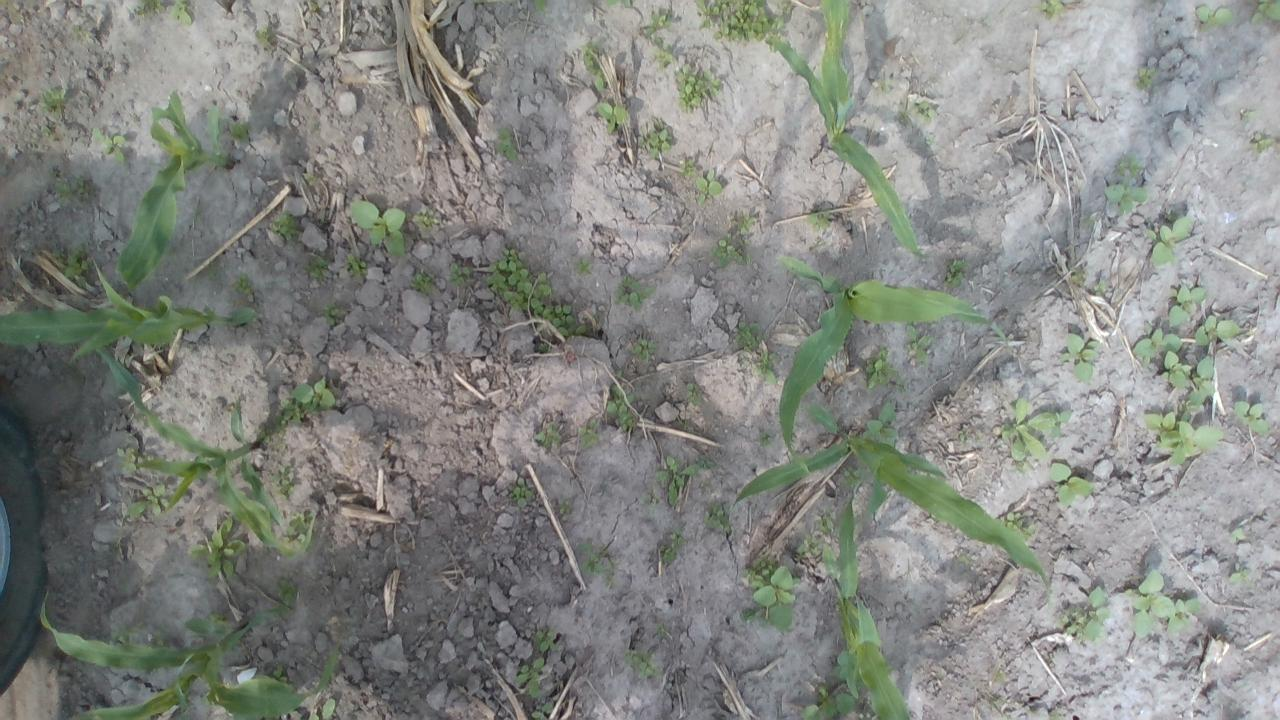Maize: (730, 402, 1053, 592), (776, 252, 1009, 476), (97, 346, 316, 556), (764, 0, 928, 258), (39, 589, 333, 720), (0, 254, 257, 366), (118, 92, 240, 290), (836, 484, 916, 720)
Weeds: (1128, 568, 1200, 639), (992, 397, 1070, 462), (1142, 410, 1224, 467), (185, 516, 247, 578), (491, 245, 552, 306), (349, 199, 406, 257), (756, 568, 794, 630), (1072, 585, 1111, 642), (714, 0, 769, 40), (656, 459, 702, 506), (1049, 461, 1094, 508), (532, 300, 586, 338), (674, 66, 720, 110), (1150, 216, 1192, 264), (1062, 332, 1102, 382), (1132, 328, 1182, 364), (295, 377, 337, 418), (806, 688, 856, 720), (1168, 284, 1204, 326), (868, 344, 902, 388), (583, 39, 610, 91), (127, 482, 168, 516), (1103, 184, 1146, 216), (1190, 354, 1214, 407), (516, 657, 546, 699), (1196, 316, 1236, 346), (766, 0, 789, 50), (1196, 4, 1234, 34), (866, 404, 900, 437), (756, 347, 784, 387), (1236, 402, 1270, 433), (618, 276, 648, 311), (598, 102, 630, 134), (906, 328, 934, 364), (581, 539, 609, 573), (744, 560, 774, 590), (606, 382, 632, 416), (650, 38, 674, 74), (644, 130, 672, 160), (272, 465, 298, 496), (734, 318, 759, 350), (706, 505, 734, 533), (62, 248, 88, 278), (638, 12, 668, 38), (1164, 352, 1185, 388), (626, 648, 655, 674), (944, 258, 969, 288), (696, 0, 720, 31), (1250, 0, 1280, 24), (695, 178, 721, 205), (511, 478, 533, 508), (273, 212, 296, 240), (104, 134, 126, 163), (171, 0, 195, 26), (1116, 154, 1142, 178), (1007, 514, 1034, 536), (1134, 66, 1156, 93), (580, 421, 600, 450), (118, 444, 136, 476), (494, 128, 514, 156), (535, 630, 557, 655), (414, 206, 439, 228), (408, 273, 434, 294), (796, 536, 820, 558), (42, 87, 62, 112), (288, 509, 310, 531), (254, 28, 276, 50), (534, 430, 558, 450), (451, 264, 472, 286), (836, 649, 853, 676), (345, 256, 366, 276), (1043, 0, 1064, 20), (914, 102, 936, 121), (136, 0, 162, 16), (810, 213, 830, 232), (305, 256, 325, 275), (713, 240, 734, 258), (278, 576, 298, 594), (279, 402, 294, 426), (324, 306, 342, 326), (234, 276, 254, 294), (55, 176, 73, 196), (632, 342, 654, 358), (660, 542, 676, 562), (235, 122, 252, 140), (1252, 135, 1270, 151), (579, 259, 594, 278), (1232, 568, 1252, 582), (841, 466, 860, 480), (92, 126, 106, 145), (681, 158, 694, 178), (822, 510, 835, 528), (735, 217, 753, 229), (686, 384, 698, 402), (652, 624, 666, 638), (562, 498, 575, 513), (534, 705, 548, 718), (1071, 270, 1082, 286), (272, 666, 286, 678), (743, 606, 754, 621), (698, 457, 716, 466), (621, 417, 633, 430), (1094, 284, 1108, 295), (1234, 528, 1248, 538), (210, 613, 224, 622), (603, 0, 618, 8), (900, 112, 910, 124), (1240, 107, 1250, 117), (537, 0, 546, 10), (762, 434, 771, 443), (72, 24, 80, 32)
